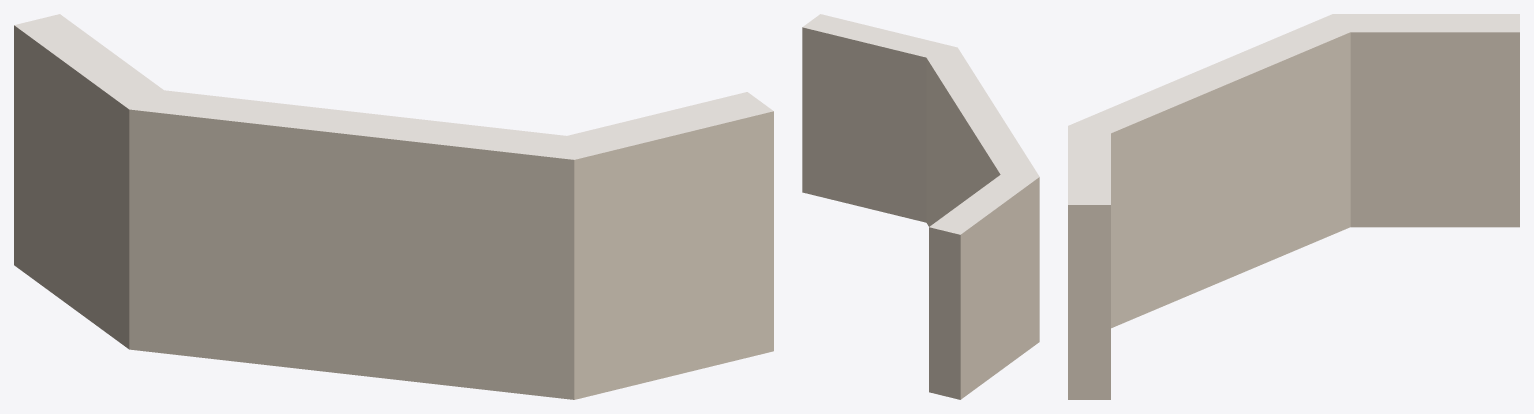
The model's file is Wall_Curved_Large_Middle.glb.
The picture shows the model from 3 angles, left to right: view 1: azimuth 30°, elevation 25°; view 2: azimuth 150°, elevation 25°; view 3: azimuth 270°, elevation 25°; orthographic projection. The views are drawn at different scales.
Parts seen in each view (by area): view 1: Wall_Curved_Large_Middle; view 2: Wall_Curved_Large_Middle; view 3: Wall_Curved_Large_Middle.
Boxes of the visible parts, box(x1,y1,x2,y2) form: Wall_Curved_Large_Middle: box(14, 14, 773, 399); Wall_Curved_Large_Middle: box(802, 14, 1039, 399); Wall_Curved_Large_Middle: box(1068, 14, 1519, 399).
Bounding box in the file's own units: 2.1 × 1 × 2.1.
